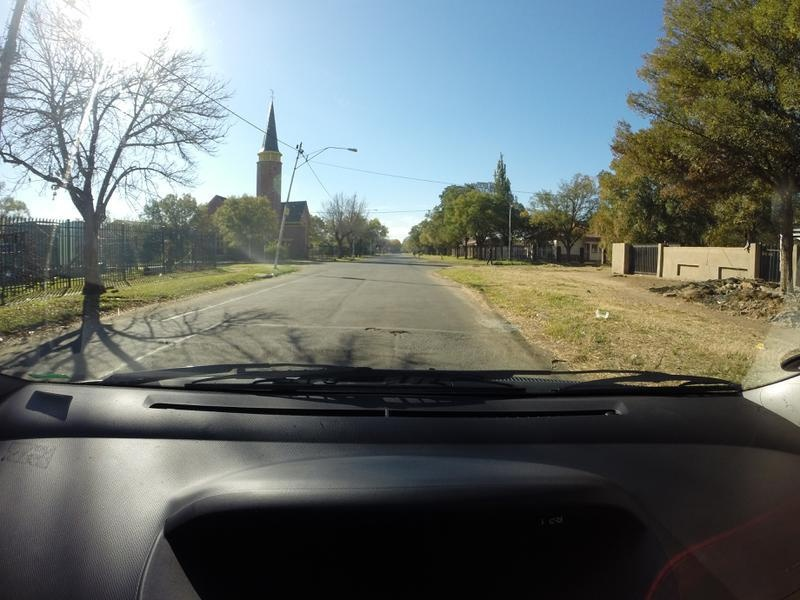pothole: (360, 321, 418, 349)
